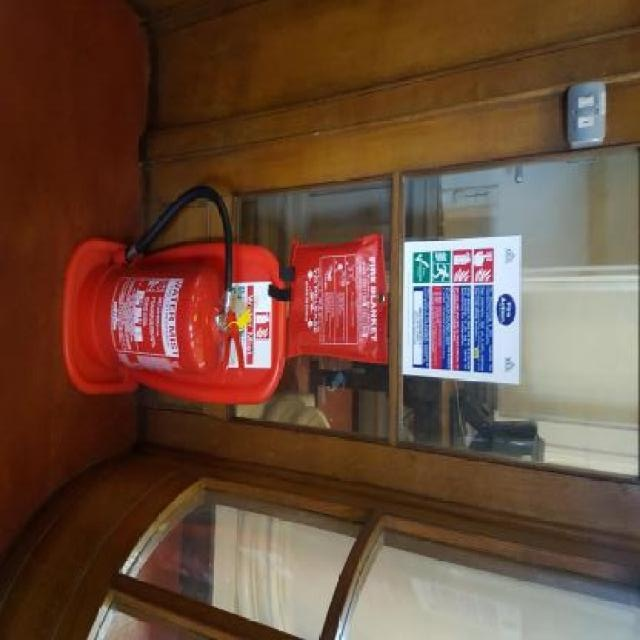fire extinguisher: (80, 181, 248, 381)
